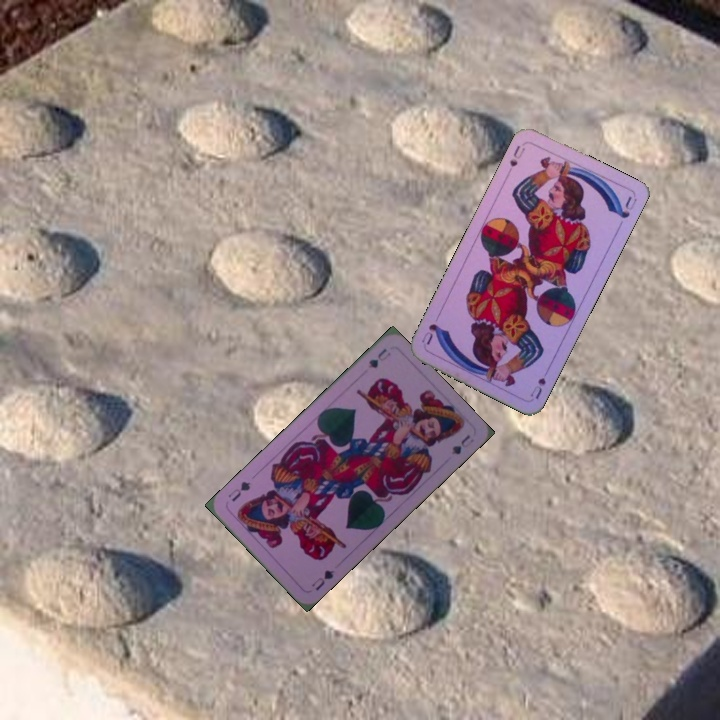GU: (307, 566, 337, 593), (365, 344, 393, 371)
SU: (526, 363, 552, 402), (505, 141, 528, 169)
